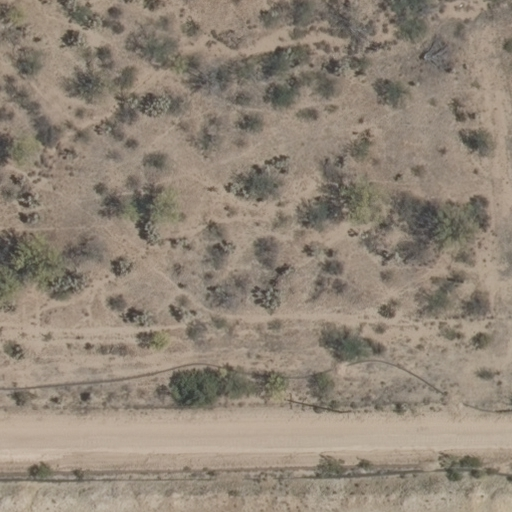DT: (335, 403, 360, 421)
